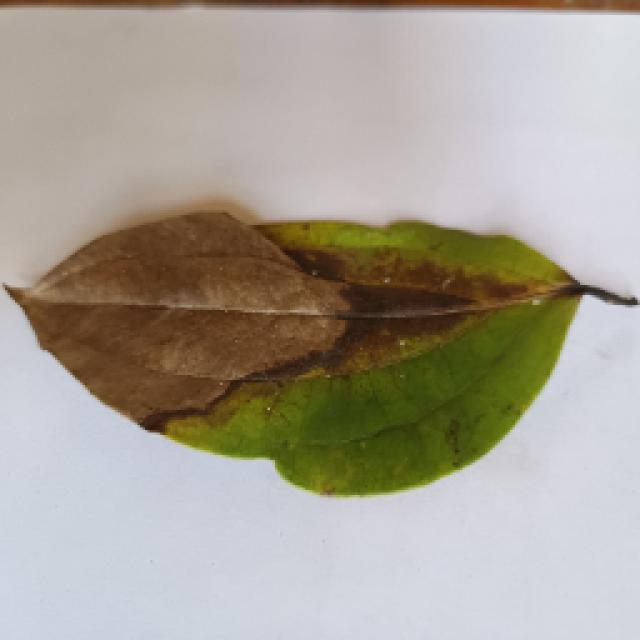footrot: (0, 205, 630, 493)
